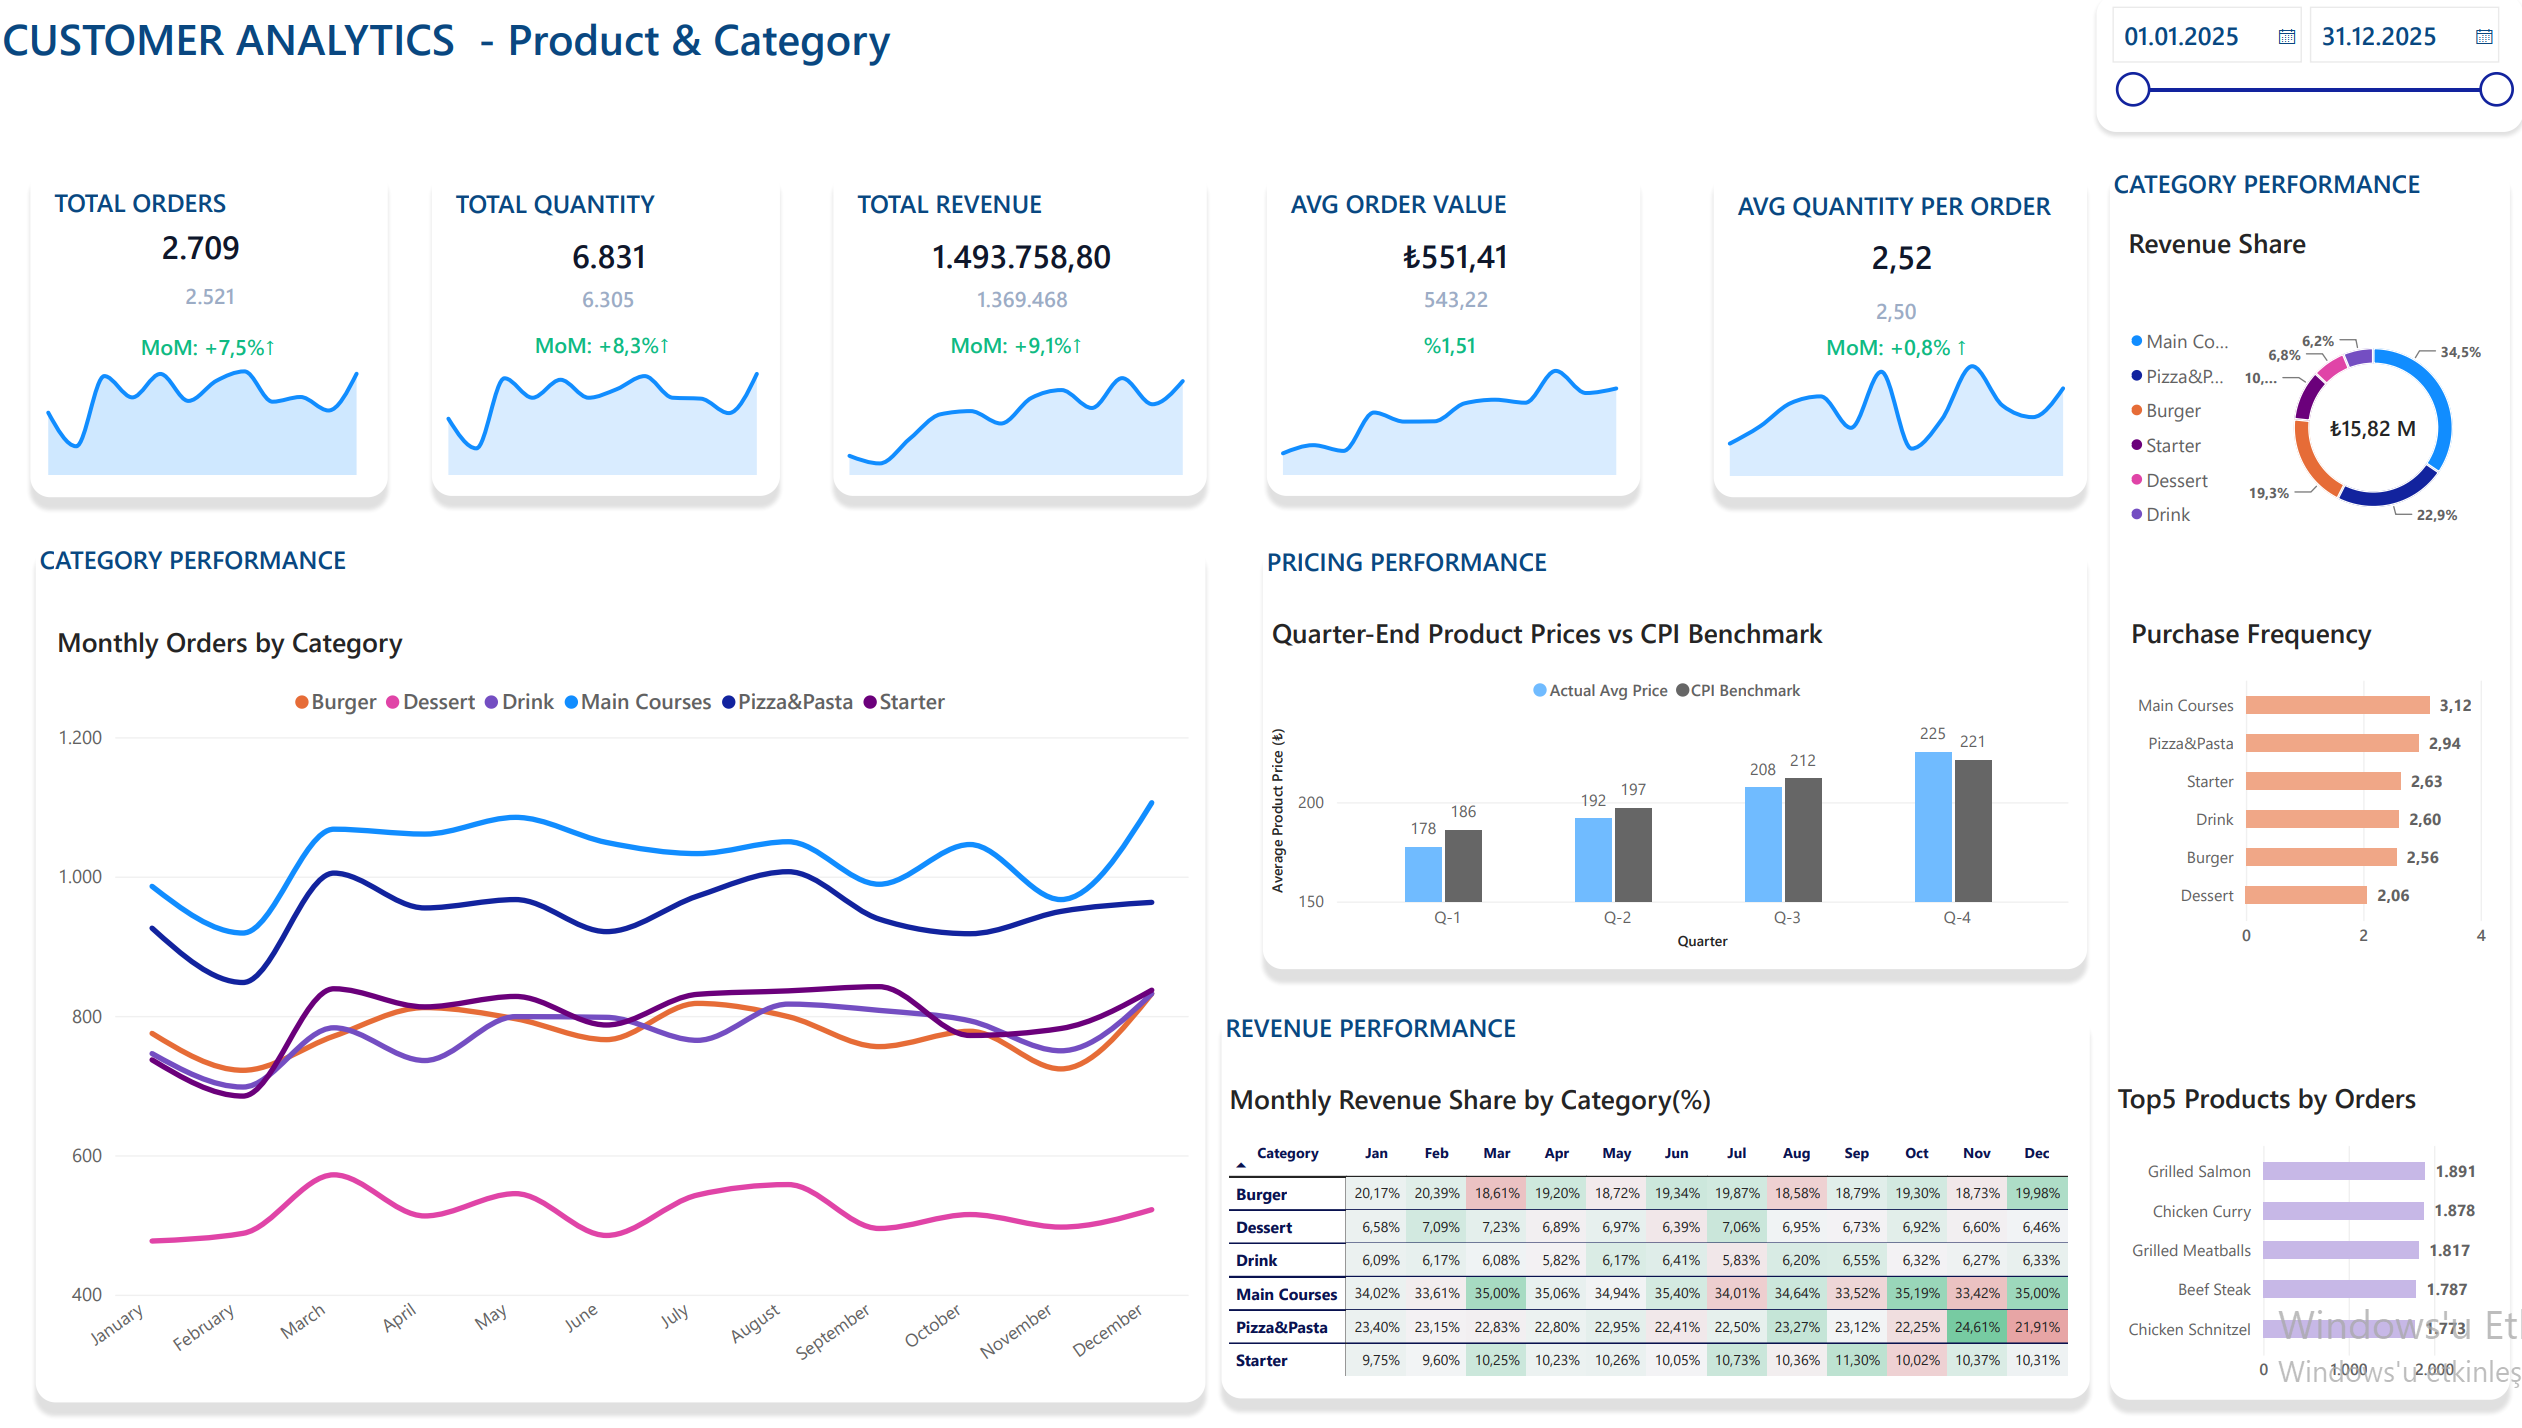

Layout of this report page (visuals, bound fields, positions):
{"tool":"powerbi","page":{"name":"Product&Category","canvas":[1920,1080],"ordinal":1},"visuals":[{"type":"group","id":"g1","title":"Active Costumer","box":[19.5,123.8,282.1,252.8],"z":0},{"type":"textbox","box":[1590,126,300,928],"z":0,"group":"g9"},{"type":"card","title":"TOTAL ORDERS","fields":{"Values":["Date.sum_renevue"]},"box":[31.8,126.6,268.3,250],"z":0,"group":"g1"},{"type":"card","title":"TOTAL QUANTITY","fields":{"Values":["Date.sum_renevue"]},"box":[331.9,128.2,261,248.2],"z":0,"group":"g3"},{"type":"card","title":"TOTAL REVENUE","fields":{"Values":["Date.sum_renevue"]},"box":[632.8,128.2,279.6,248.2],"z":0,"group":"g2"},{"type":"card","title":"AVG ORDER VALUE","fields":{"Values":["Date.sum_renevue"]},"box":[957.8,128.2,279.6,248.2],"z":0,"group":"g4"},{"type":"card","title":"AVG QUANTITY PER ORDER","fields":{"Values":["Date.sum_renevue"]},"box":[1292.8,128.9,279.6,248.2],"z":0,"group":"g5"},{"type":"textbox","box":[35.1,408.3,877.5,648.3],"z":0,"group":"g6"},{"type":"textbox","box":[955.1,408.9,617.7,322.2],"z":0,"group":"g7"},{"type":"textbox","box":[924.1,758.6,651.4,294.3],"z":0,"group":"g8"},{"type":"group","id":"g2","title":"Returning customer","box":[620,126,300,250],"z":1000},{"type":"stackedAreaChart","fields":{"Category":["Date.Date.Varyasyon.Tarih Hiyerarşisi.Ay"],"Y":["Query-customer.Total Orders"]},"box":[20,248,280,128],"z":1000,"group":"g1"},{"type":"stackedAreaChart","fields":{"Category":["Date.Date.Varyasyon.Tarih Hiyerarşisi.Ay"],"Y":["Query-customer.Latest Month Quantity"]},"box":[320,252.5,280.1,123.9],"z":1000,"group":"g3"},{"type":"stackedAreaChart","fields":{"Category":["Date.Date.Varyasyon.Tarih Hiyerarşisi.Ay"],"Y":["Query.Total Revenue"]},"box":[620,252.5,300.1,123.9],"z":1000,"group":"g2"},{"type":"stackedAreaChart","fields":{"Category":["Date.Date.Varyasyon.Tarih Hiyerarşisi.Ay"],"Y":["Query.Average Order Value"]},"box":[945,252.5,300.1,123.9],"z":1000,"group":"g4"},{"type":"stackedAreaChart","fields":{"Category":["Date.Date.Varyasyon.Tarih Hiyerarşisi.Ay"],"Y":["Query-customer.Latest avg quantity per order"]},"box":[1280,253.2,300.1,123.9],"z":1000,"group":"g5"},{"type":"clusteredBarChart","title":"Purchase Frequency","fields":{"Category":["public category.category_name"],"Y":["public category.Category Purchase Frequency"]},"box":[1590,450,298,284],"z":1000,"group":"g9"},{"type":"clusteredBarChart","title":"Top5 Products by Orders","fields":{"Category":["public product.product_name"],"Y":["public category.Category Total Orders"]},"box":[1580,799,316,261],"z":1000,"group":"g10"},{"type":"slicer","title":"Date","fields":{"Values":["Date.Date"]},"box":[1580,0,320,103.3],"z":2000},{"type":"card","title":"OVERALL PERFORMANCE","fields":{"Values":["Query-customer.Latest Month Total Orders"]},"box":[19.5,123.8,279.8,134.8],"z":2000,"group":"g1"},{"type":"card","title":"OVERALL PERFORMANCE","fields":{"Values":["Query-customer.Latest Month Quantity"]},"box":[329.7,126,269.8,143.3],"z":2000,"group":"g3"},{"type":"card","title":"OVERALL PERFORMANCE","fields":{"Values":["Query.Latest Month Revenue"]},"box":[630.4,126,289.1,143.3],"z":2000,"group":"g2"},{"type":"card","title":"OVERALL PERFORMANCE","fields":{"Values":["Query.Average Order Value"]},"box":[955.4,126,289.1,143.3],"z":2000,"group":"g4"},{"type":"card","title":"OVERALL PERFORMANCE","fields":{"Values":["Query-customer.Latest avg quantity per order"]},"box":[1290.4,126.7,289.1,143.3],"z":2000,"group":"g5"},{"type":"donutChart","title":"Revenue Share","fields":{"Category":["public category.category_name"],"Y":["Query.Total Revenue"]},"box":[1588,158,314,292],"z":2000,"group":"g9"},{"type":"textbox","box":[10,10,802,54],"z":3000},{"type":"card","title":"TARGET","fields":{"Values":["Query-customer.Quantity MoM Label"]},"box":[327.3,226.5,265.4,80],"z":3000,"group":"g3"},{"type":"card","title":"TARGET","fields":{"Values":["Query.Revenue MoM Label"]},"box":[627.8,226.5,284.4,80],"z":3000,"group":"g2"},{"type":"card","title":"TARGET","fields":{"Values":["Query.Avg Order value MoM %"]},"box":[952.8,226.5,284.4,80],"z":3000,"group":"g4"},{"type":"card","title":"TARGET","fields":{"Values":["Query-customer.Quantity per Order MoM %"]},"box":[1287.8,227.2,284.4,80],"z":3000,"group":"g5"},{"type":"group","id":"g3","title":"Quantity","box":[320,126,280,250],"z":4000},{"type":"card","title":"TARGET","fields":{"Values":["Query-customer.Previous Month Quantity"]},"box":[331.2,184.3,266.9,95],"z":4000,"group":"g3"},{"type":"card","title":"TARGET","fields":{"Values":["Query.Previous Month Revenuee"]},"box":[632,184.3,285.9,95],"z":4000,"group":"g2"},{"type":"card","title":"TARGET","fields":{"Values":["Query.Previous Month avg order value"]},"box":[957,184.3,285.9,95],"z":4000,"group":"g4"},{"type":"card","title":"TARGET","fields":{"Values":["Query-customer.Previous avg quantity per order"]},"box":[1287.2,192.3,285.9,95],"z":4000,"group":"g5"},{"type":"card","title":"TARGET","fields":{"Values":["Query.Order MoM Label"]},"box":[27.4,226.9,274.3,80],"z":4000,"group":"g1"},{"type":"clusteredColumnChart","title":"Quarter-End Product Prices vs CPI Benchmark","fields":{"Category":["public monthly_pricing_vs_inflation.Quarter Name EN"],"Y":["Max(public monthly_pricing_vs_inflation.actual_avg_price)","Max(public monthly_pricing_vs_inflation.cpi_adjusted_avg_price)"]},"box":[946.3,449.8,628.6,281.7],"z":4000,"group":"g7"},{"type":"lineChart","title":"Monthly Orders by Category","fields":{"Category":["Date.Month Name EN"],"Series":["public category.category_name"],"Y":["public category.Category Total Orders"]},"box":[35.1,457.7,880,601.7],"z":4000,"group":"g6"},{"type":"pivotTable","title":"Monthly Revenue Share by Category(%)","fields":{"Columns":["Date.Month_Short_EN"],"Rows":["public category.category_name"],"Values":["Query.Total Revenue"]},"box":[914.1,799.2,660,255.7],"z":4000,"group":"g8"},{"type":"group","id":"g4","title":"Returning customer rate","box":[945,126,300,250],"z":5000},{"type":"card","title":"TARGET","fields":{"Values":["Query-customer.Previous Month Total Orders"]},"box":[31.4,183.5,269.6,90.4],"z":5000,"group":"g1"},{"type":"group","id":"g5","title":"Purchase Frequency","box":[1280,126.7,300,250],"z":6000},{"type":"group","id":"g6","title":"Sales Platform","box":[35.1,408.3,880,651.1],"z":7000},{"type":"group","id":"g7","title":"Sales Platform","box":[946.3,408.9,628.6,322.6],"z":8000},{"type":"group","id":"g8","title":"Sales Platform","box":[914.1,758.6,661.4,296.3],"z":9000},{"type":"group","id":"g9","title":"Category Performance","box":[1588,126,314,928],"z":10000},{"type":"group","id":"g10","title":"Category Performance","box":[1580,799,316,261],"z":11000}]}

Visuals, with their boxes in screenshot pixels (x1, y1, x2, y2), scaled from the page's 1920x1080 canvas onto the 2522x1428 screenshot:
"Active Costumer" group: bbox(26, 164, 396, 498)
textbox: bbox(2089, 167, 2483, 1394)
"TOTAL ORDERS" card: bbox(42, 167, 394, 498)
"TOTAL QUANTITY" card: bbox(436, 170, 779, 498)
"TOTAL REVENUE" card: bbox(831, 170, 1198, 498)
"AVG ORDER VALUE" card: bbox(1258, 170, 1625, 498)
"AVG QUANTITY PER ORDER" card: bbox(1698, 170, 2065, 499)
textbox: bbox(46, 540, 1199, 1397)
textbox: bbox(1255, 541, 2066, 967)
textbox: bbox(1214, 1003, 2069, 1392)
"Returning customer" group: bbox(814, 167, 1208, 497)
stackedAreaChart - Date.Date.Varyasyon.Tarih Hiyerarşisi.Ay x Query-customer.Total Orders: bbox(26, 328, 394, 497)
stackedAreaChart - Date.Date.Varyasyon.Tarih Hiyerarşisi.Ay x Query-customer.Latest Month Quantity: bbox(420, 334, 788, 498)
stackedAreaChart - Date.Date.Varyasyon.Tarih Hiyerarşisi.Ay x Query.Total Revenue: bbox(814, 334, 1209, 498)
stackedAreaChart - Date.Date.Varyasyon.Tarih Hiyerarşisi.Ay x Query.Average Order Value: bbox(1241, 334, 1635, 498)
stackedAreaChart - Date.Date.Varyasyon.Tarih Hiyerarşisi.Ay x Query-customer.Latest avg quantity per order: bbox(1681, 335, 2076, 499)
"Purchase Frequency" clusteredBarChart: bbox(2089, 595, 2480, 971)
"Top5 Products by Orders" clusteredBarChart: bbox(2075, 1056, 2490, 1402)
"Date" slicer: bbox(2075, 0, 2496, 137)
"OVERALL PERFORMANCE" card: bbox(26, 164, 393, 342)
"OVERALL PERFORMANCE" card: bbox(433, 167, 787, 356)
"OVERALL PERFORMANCE" card: bbox(828, 167, 1208, 356)
"OVERALL PERFORMANCE" card: bbox(1255, 167, 1635, 356)
"OVERALL PERFORMANCE" card: bbox(1695, 168, 2075, 357)
"Revenue Share" donutChart: bbox(2086, 209, 2498, 595)
textbox: bbox(13, 13, 1067, 85)
"TARGET" card: bbox(430, 299, 779, 405)
"TARGET" card: bbox(825, 299, 1198, 405)
"TARGET" card: bbox(1252, 299, 1625, 405)
"TARGET" card: bbox(1692, 300, 2065, 406)
"Quantity" group: bbox(420, 167, 788, 497)
"TARGET" card: bbox(435, 244, 786, 369)
"TARGET" card: bbox(830, 244, 1206, 369)
"TARGET" card: bbox(1257, 244, 1633, 369)
"TARGET" card: bbox(1691, 254, 2066, 380)
"TARGET" card: bbox(36, 300, 396, 406)
"Quarter-End Product Prices vs CPI Benchmark" clusteredColumnChart: bbox(1243, 595, 2069, 967)
"Monthly Orders by Category" lineChart: bbox(46, 605, 1202, 1401)
"Monthly Revenue Share by Category(%)" pivotTable: bbox(1201, 1057, 2068, 1395)
"Returning customer rate" group: bbox(1241, 167, 1635, 497)
"TARGET" card: bbox(41, 243, 395, 362)
"Purchase Frequency" group: bbox(1681, 168, 2075, 498)
"Sales Platform" group: bbox(46, 540, 1202, 1401)
"Sales Platform" group: bbox(1243, 541, 2069, 967)
"Sales Platform" group: bbox(1201, 1003, 2069, 1395)
"Category Performance" group: bbox(2086, 167, 2498, 1394)
"Category Performance" group: bbox(2075, 1056, 2490, 1402)
